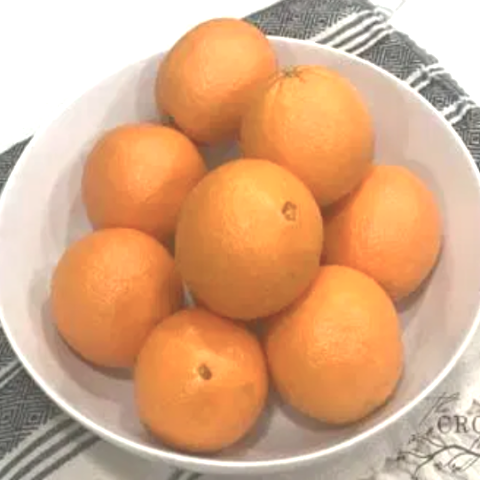orange: (170, 155, 329, 318), (295, 148, 469, 293), (258, 257, 404, 426), (126, 291, 268, 455), (28, 222, 187, 366), (150, 11, 287, 138)
